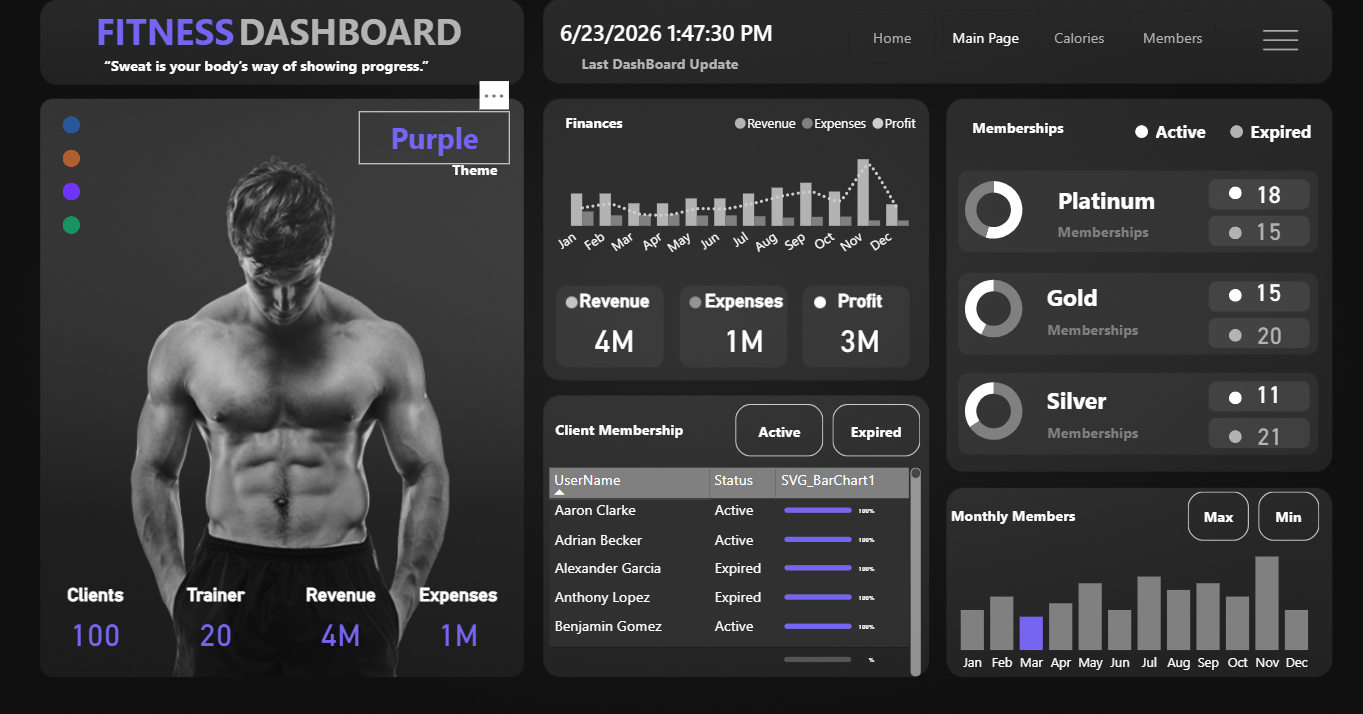

Layout of this report page (visuals, bound fields, positions):
{"tool":"powerbi","page":{"name":"Main Page","canvas":[1280,720],"ordinal":1},"visuals":[{"type":"card","title":"Clients","fields":{"Values":["_Measures.Users_Count"]},"box":[52.1,584.6,82.3,72.7],"z":0},{"type":"card","title":"Trainer","fields":{"Values":["Count(Users.Trainer Name)"]},"box":[157.8,584.6,94.7,72.7],"z":1000},{"type":"card","title":"Revenue","fields":{"Values":["_Measures.Revenue"]},"box":[274.4,584.6,94.7,72.7],"z":2000},{"type":"card","title":"Expenses","fields":{"Values":["_Measures.Expenses"]},"box":[384.2,584.6,94.7,72.7],"z":3000},{"type":"card","title":"Revenue","fields":{"Values":["_Measures.Revenue"]},"box":[533.8,311.5,85.1,72.7],"z":4000},{"type":"card","title":"Expenses","fields":{"Values":["_Measures.Expenses"]},"box":[653.2,311.5,86.4,72.7],"z":5000},{"type":"card","title":"Profit","fields":{"Values":["_Measures.Profit"]},"box":[761.6,311.5,86.4,72.7],"z":6000},{"type":"lineClusteredColumnComboChart","title":"Revenue","fields":{"Y":["_Measures.Revenue","_Measures.Expenses"],"Y2":["_Measures.Profit"],"Category":["calendar.Month"]},"box":[516,137.2,349.9,161.9],"z":7000},{"type":"shape","box":[509.1,137.2,96.1,37],"z":8000},{"type":"clusteredColumnChart","fields":{"Y":["_Measures.Users_Count"],"Category":["calendar.Month"]},"box":[882.3,539.3,355.4,137.2],"z":9000},{"type":"shape","box":[882.3,502.2,129,37],"z":10000},{"type":"advancedSlicerVisual","fields":{"Values":["Min_Max_Switch.Type"]},"box":[1104.6,494,133.1,56.3],"z":11000},{"type":"tableEx","fields":{"Values":["Users.UserName","Users.Status","_Measures.SVG_BarChart1"]},"box":[509.1,472,356.8,204.5],"z":12000},{"type":"advancedSlicerVisual","fields":{"Values":["Users.Status"]},"box":[683.4,413,182.5,59],"z":13000},{"type":"shape","box":[516,422.6,129,38.4],"z":14000},{"type":"shape","box":[975.6,299.1,129,38.4],"z":15000},{"type":"shape","box":[986.6,208.6,129,38.4],"z":16000},{"type":"shape","box":[975.6,393.8,129,38.4],"z":17000},{"type":"shape","box":[966,237.4,129,38.4],"z":18000},{"type":"shape","box":[966,329.3,109.8,38.4],"z":19000},{"type":"shape","box":[966,424,109.8,38.4],"z":20000},{"type":"donutChart","fields":{"Y":["_Measures.Users_Platinum"],"Category":["Users.Status"]},"box":[882.3,199,93.3,76.8],"z":21000},{"type":"donutChart","fields":{"Y":["_Measures.Users_Gold"],"Category":["Users.Status"]},"box":[882.3,290.9,93.3,76.8],"z":22000},{"type":"donutChart","fields":{"Y":["_Measures.Users_Silver"],"Category":["Users.Status"]},"box":[882.3,385.6,93.3,76.8],"z":23000},{"type":"card","fields":{"Values":["_Measures.Platinum_Active"]},"box":[1159.5,208.6,50.8,28.8],"z":24000},{"type":"card","fields":{"Values":["_Measures.Platinum_Expired"]},"box":[1159.5,242.9,50.8,28.8],"z":25000},{"type":"card","fields":{"Values":["_Measures.Gold_Active"]},"box":[1159.5,300.5,50.8,28.8],"z":26000},{"type":"card","fields":{"Values":["_Measures.Gold_Expired"]},"box":[1165,337.6,41.2,34.3],"z":27000},{"type":"card","fields":{"Values":["_Measures.Silver_Active"]},"box":[1159.5,393.8,50.8,28.8],"z":28000},{"type":"card","fields":{"Values":["_Measures.Silver_Expired"]},"box":[1160.9,433.6,50.8,28.8],"z":29000},{"type":"shape","box":[1147.2,310.1,12.3,12.3],"z":30000},{"type":"shape","box":[1147.2,215.4,12.3,12.3],"z":31000},{"type":"shape","box":[1147.2,406.2,12.3,12.3],"z":32000},{"type":"shape","box":[1147.2,252.5,12.3,12.3],"z":33000},{"type":"shape","box":[1147.2,347.2,12.3,12.3],"z":34000},{"type":"shape","box":[1147.2,441.9,12.3,12.3],"z":35000},{"type":"shape","box":[891.9,137.2,119.4,45.3],"z":36000},{"type":"shape","box":[1060.7,157.8,12.3,12.3],"z":37000},{"type":"shape","box":[1077.2,144.1,54.9,38.4],"z":38000},{"type":"shape","box":[1148.5,157.8,12.3,12.3],"z":39000},{"type":"shape","box":[1165,144.1,74.1,38.4],"z":40000},{"type":"shape","box":[87.4,43.7,142,43.7],"z":41000},{"type":"shape","box":[214,44.2,232.6,44.2],"z":42000},{"type":"shape","box":[90.6,87.8,323.8,27.4],"z":43000},{"type":"image","box":[1161.6,59.3,70.9,41.9],"z":44000},{"type":"shape","box":[523.3,88.4,190.7,23.3],"z":45000},{"type":"pageNavigator","box":[794.2,51.2,345.3,50],"z":46000},{"type":"advancedSlicerVisual","fields":{"Values":["ColorCodes.Icon"]},"box":[52.2,142,37.6,129.8],"z":47000},{"type":"shape","box":[338.6,145.6,140.8,48.5],"z":48000},{"type":"shape","box":[390.7,184.5,111.6,29.1],"z":49000},{"type":"cardVisual","fields":{"Data":["_Measures.Current Time"]},"box":[496.5,26.7,265.1,89.5],"z":50000}]}

Visuals, with their boxes on the page's 1280x720 design canvas (x1, y1, x2, y2). These are canvas units, not pixel positions in the 1363x714 screenshot, which may show the page scaled, cropped or inside an application window:
"Clients" card: (52,585,134,657)
"Trainer" card: (158,585,252,657)
"Revenue" card: (274,585,369,657)
"Expenses" card: (384,585,479,657)
"Revenue" card: (534,312,619,384)
"Expenses" card: (653,312,740,384)
"Profit" card: (762,312,848,384)
"Revenue" lineClusteredColumnComboChart: (516,137,866,299)
shape: (509,137,605,174)
clusteredColumnChart - _Measures.Users_Count x calendar.Month: (882,539,1238,676)
shape: (882,502,1011,539)
advancedSlicerVisual - Min_Max_Switch.Type: (1105,494,1238,550)
tableEx - Users.UserName x Users.Status: (509,472,866,676)
advancedSlicerVisual - Users.Status: (683,413,866,472)
shape: (516,423,645,461)
shape: (976,299,1105,338)
shape: (987,209,1116,247)
shape: (976,394,1105,432)
shape: (966,237,1095,276)
shape: (966,329,1076,368)
shape: (966,424,1076,462)
donutChart - _Measures.Users_Platinum x Users.Status: (882,199,976,276)
donutChart - _Measures.Users_Gold x Users.Status: (882,291,976,368)
donutChart - _Measures.Users_Silver x Users.Status: (882,386,976,462)
card - _Measures.Platinum_Active: (1160,209,1210,237)
card - _Measures.Platinum_Expired: (1160,243,1210,272)
card - _Measures.Gold_Active: (1160,300,1210,329)
card - _Measures.Gold_Expired: (1165,338,1206,372)
card - _Measures.Silver_Active: (1160,394,1210,423)
card - _Measures.Silver_Expired: (1161,434,1212,462)
shape: (1147,310,1160,322)
shape: (1147,215,1160,228)
shape: (1147,406,1160,418)
shape: (1147,252,1160,265)
shape: (1147,347,1160,360)
shape: (1147,442,1160,454)
shape: (892,137,1011,182)
shape: (1061,158,1073,170)
shape: (1077,144,1132,182)
shape: (1148,158,1161,170)
shape: (1165,144,1239,182)
shape: (87,44,229,87)
shape: (214,44,447,88)
shape: (91,88,414,115)
image: (1162,59,1232,101)
shape: (523,88,714,112)
pageNavigator: (794,51,1140,101)
advancedSlicerVisual - ColorCodes.Icon: (52,142,90,272)
shape: (339,146,479,194)
shape: (391,184,502,214)
cardVisual - _Measures.Current Time: (496,27,762,116)
